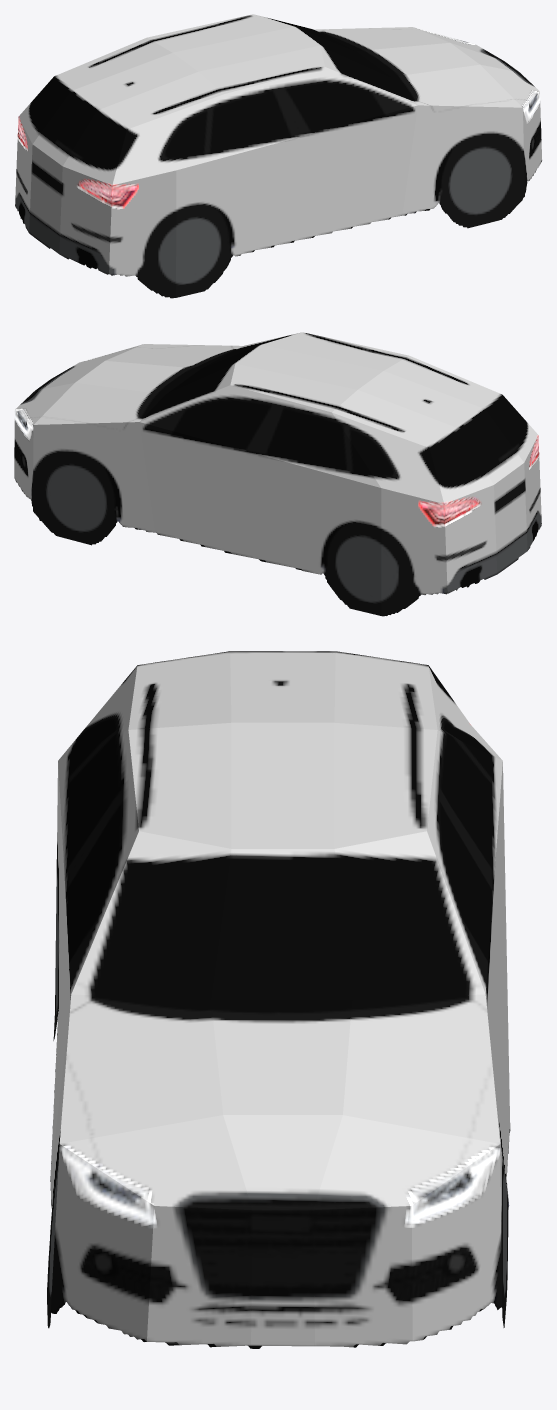
Rendered from audi.glb.
3 views of the same model, one above another, from view 1: azimuth 30°, elevation 25°; view 2: azimuth 150°, elevation 25°; view 3: azimuth 270°, elevation 25° (orthographic). The views are drawn at different scales.
Parts seen in each view (by area): view 1: Cube.001; view 2: Cube.001; view 3: Cube.001.
Part boxes in pixels (x1,y1,x2,y2): Cube.001: (15,14,542,298); Cube.001: (14,332,541,616); Cube.001: (47,651,510,1347).
Size of the model in its own units: 4.59 by 1.66 by 1.98.
5 materials, 5 textured.
